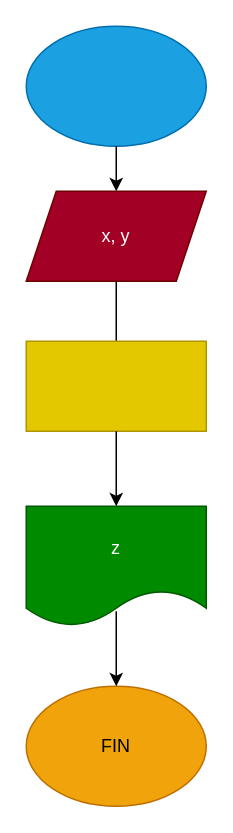
Some shapes in this 233 by 833 pixel diagram are drawn without their labels. Each missing label, with the centre of its shape:
"INICIO" goes at (115,85).
"z = x ^ y" goes at (115,385).
